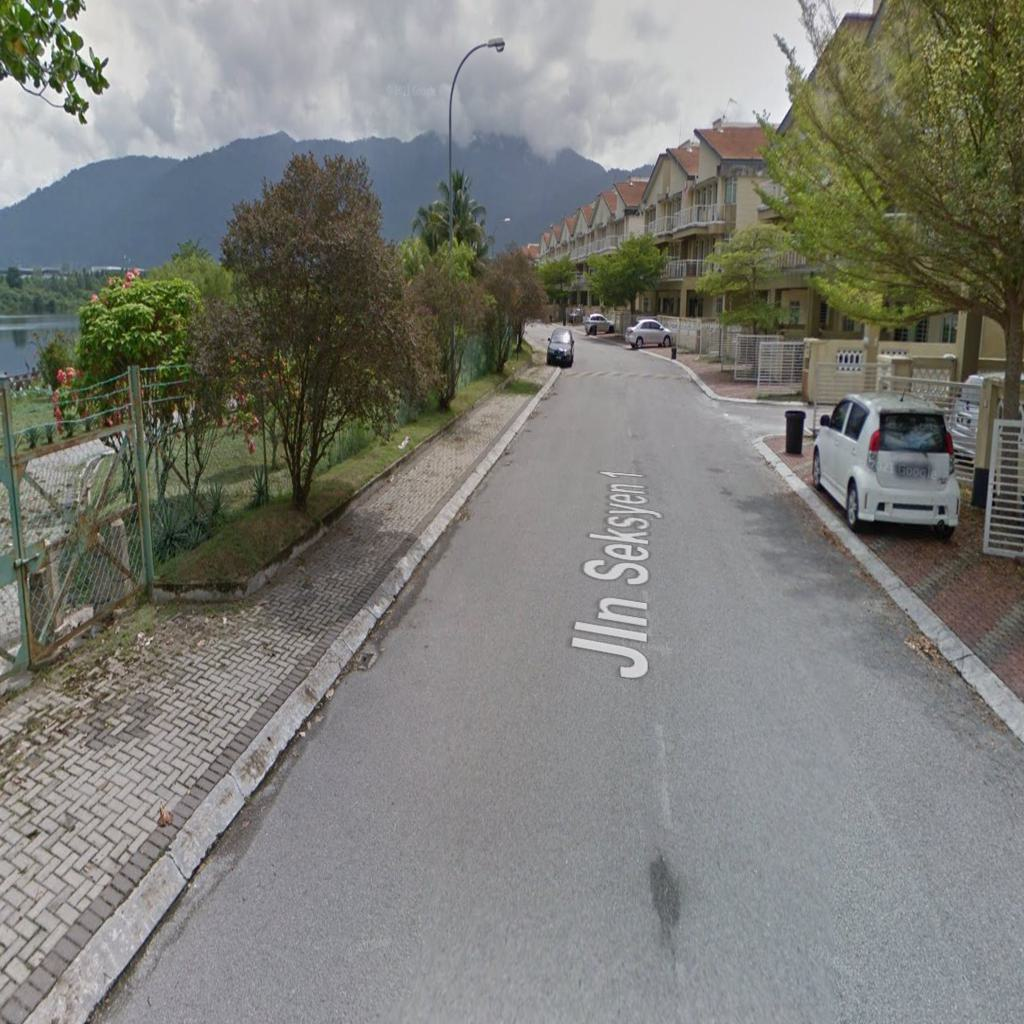Junction: (628, 377, 823, 477)
